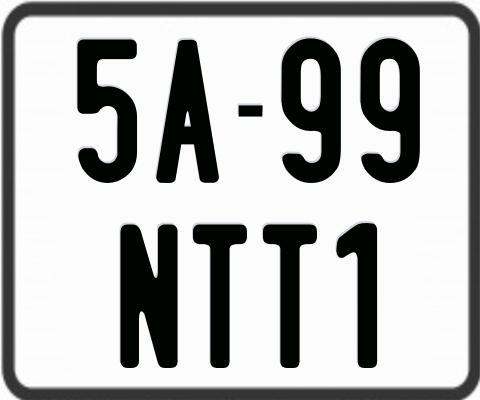1: (335, 222, 376, 372)
5: (74, 38, 136, 184)
9: (357, 38, 422, 185), (281, 35, 341, 183)
A: (155, 37, 222, 185)
N: (119, 221, 178, 371)
T: (192, 224, 250, 370), (260, 224, 314, 368)
